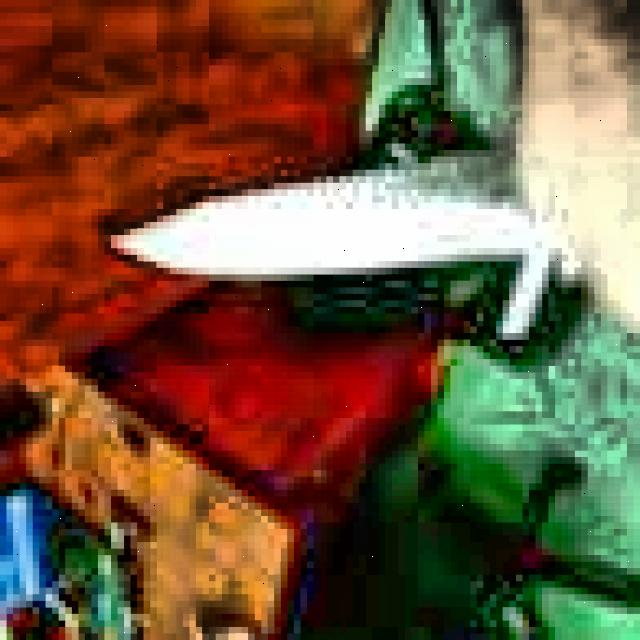knife: (118, 147, 592, 335)
